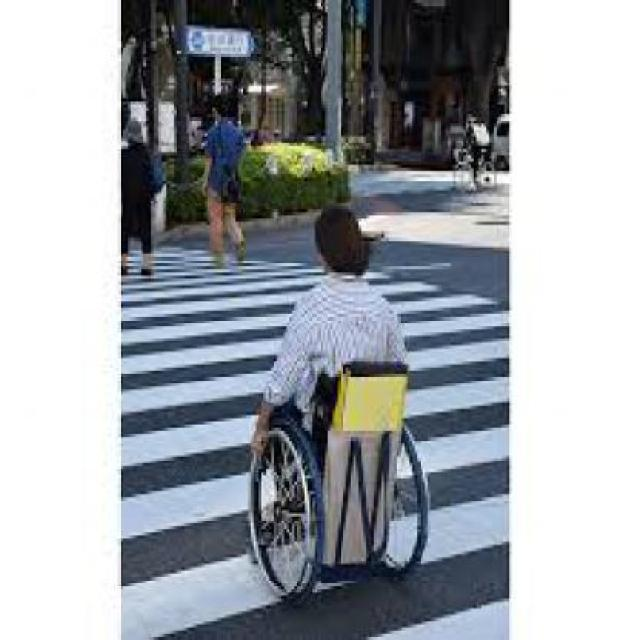obstacle: (252, 208, 428, 602), (199, 94, 250, 266), (121, 122, 162, 278)
